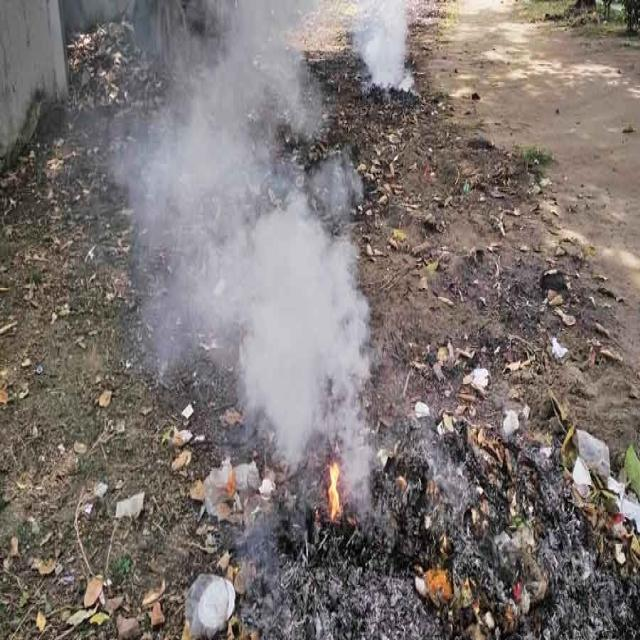Fire: (322, 458, 345, 523)
Smoke: (108, 2, 390, 536)
